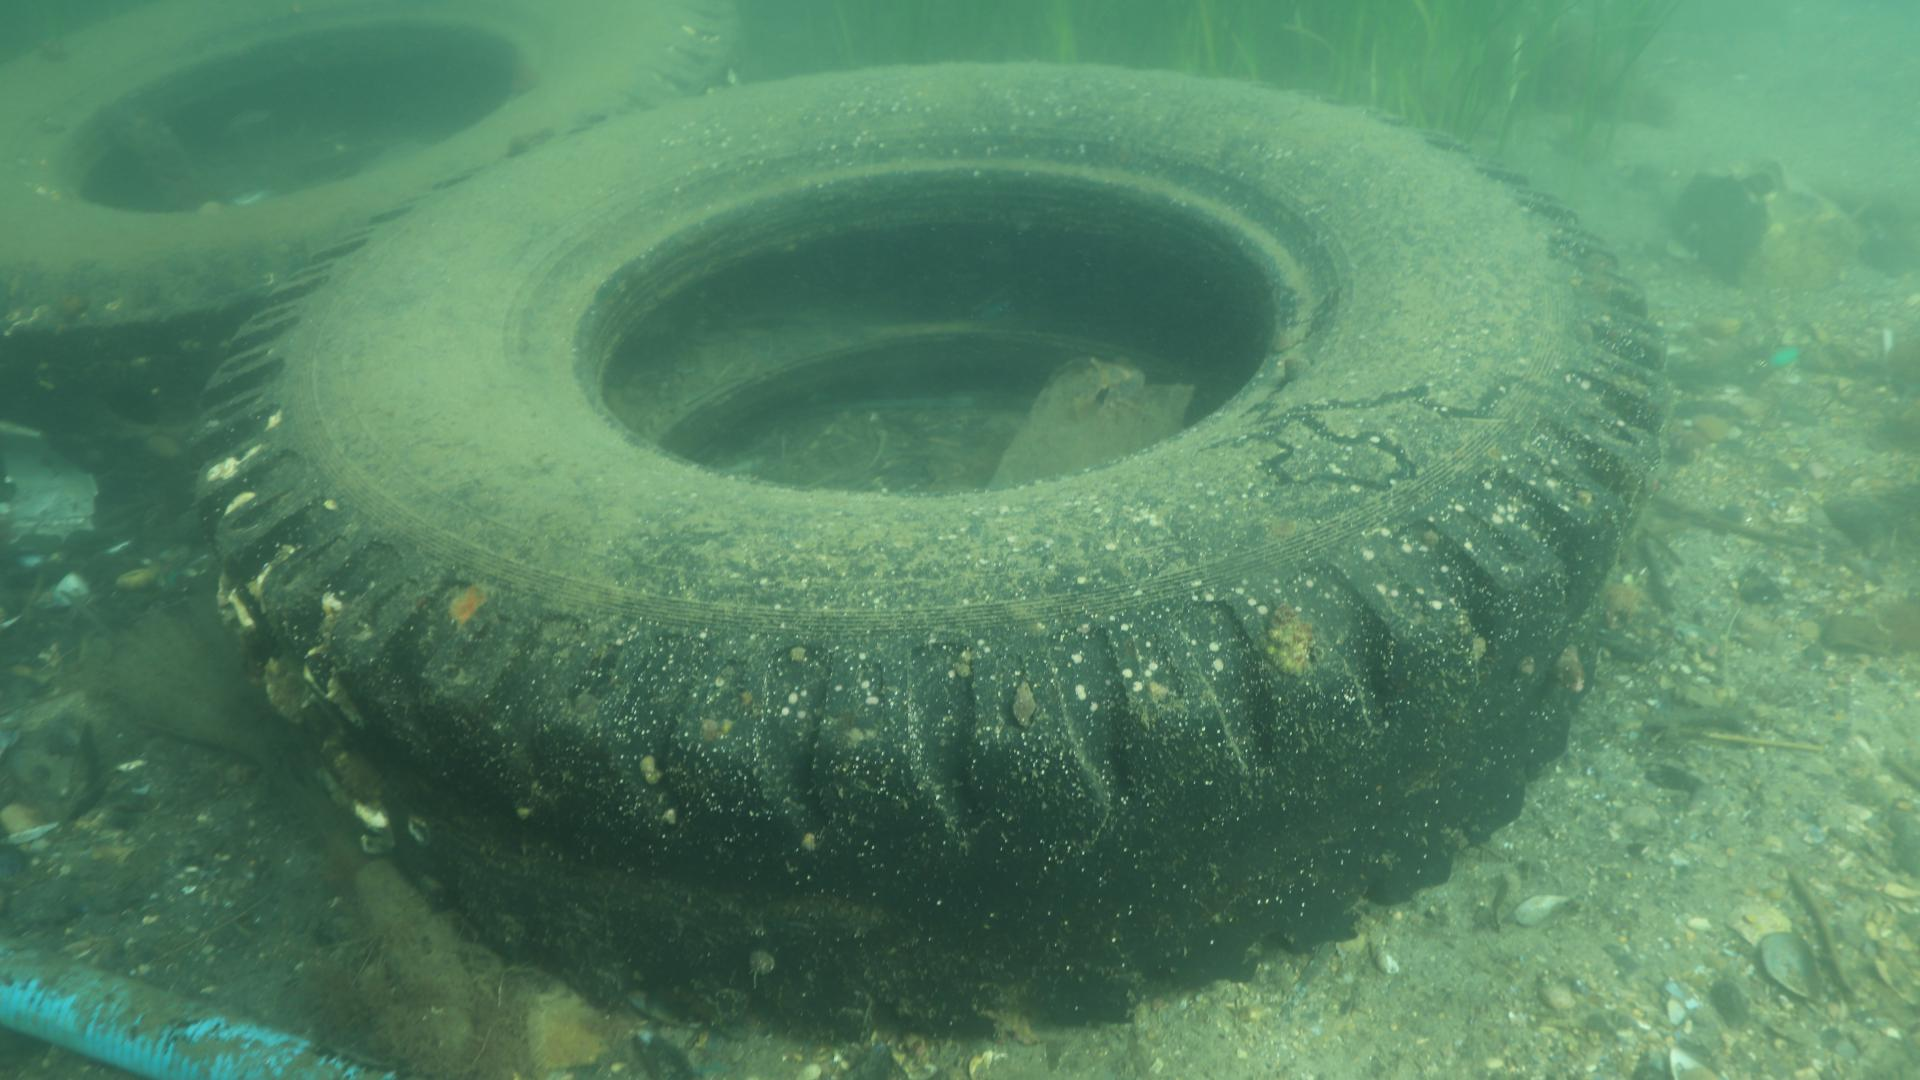tire: (189, 61, 1667, 1040), (0, 0, 752, 468)
